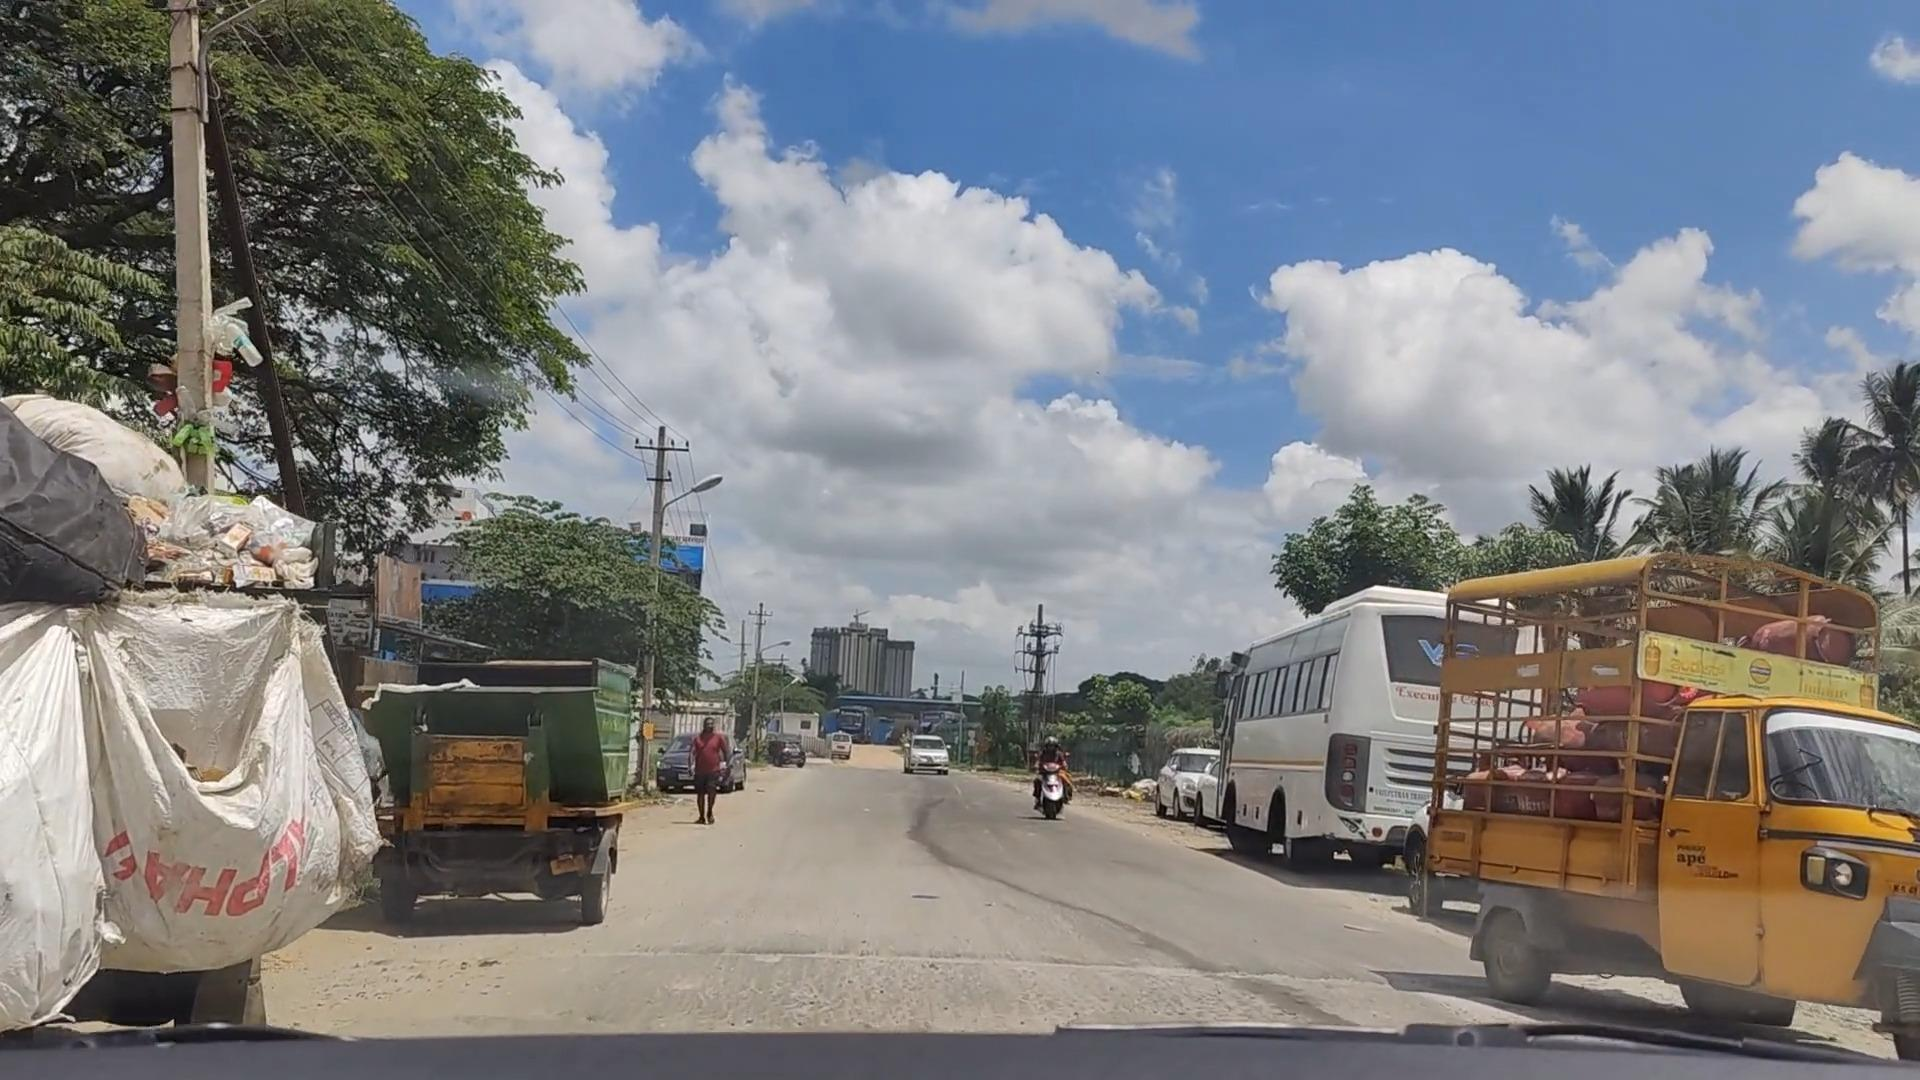HMV: (1393, 560, 1920, 1068), (0, 381, 376, 1042), (390, 658, 655, 940)
RoadDamages: (600, 948, 1211, 1040)
